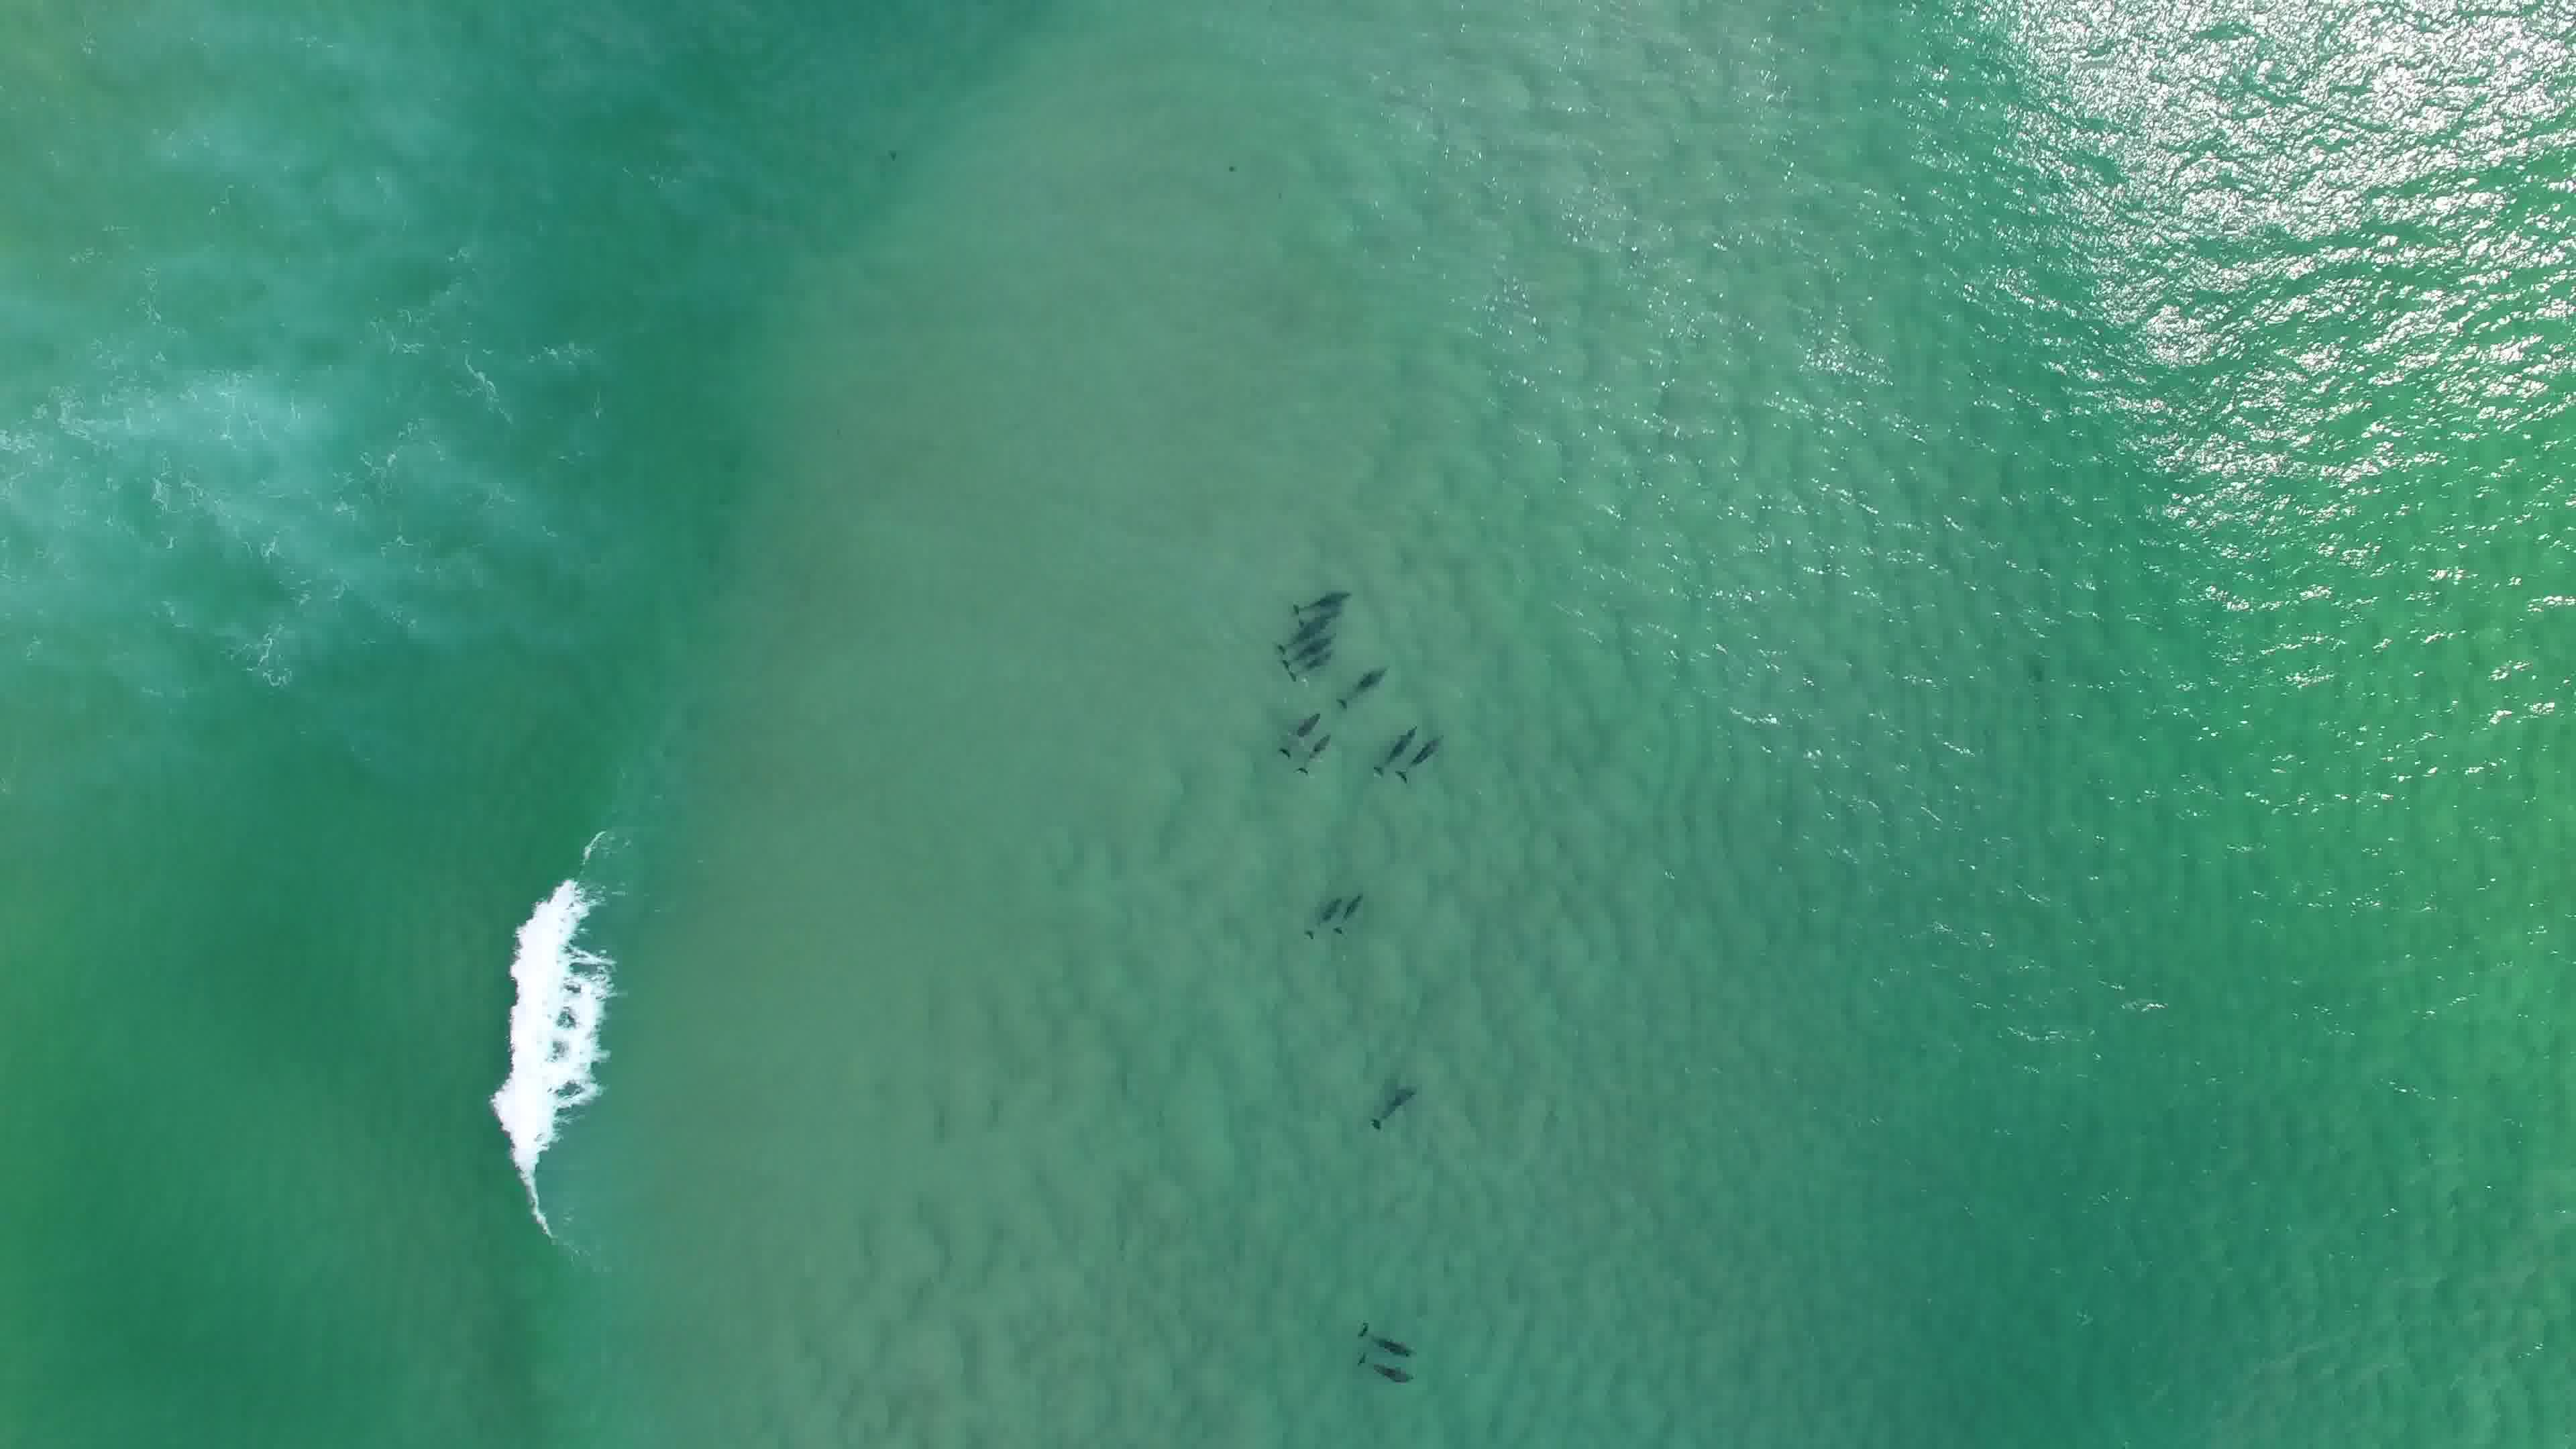dolphin: (1316, 637, 1391, 711), (1341, 1304, 1422, 1371), (1355, 1069, 1426, 1129), (1345, 1346, 1422, 1394), (1265, 697, 1343, 741), (1281, 729, 1346, 780), (1408, 715, 1451, 793), (1265, 605, 1339, 642), (1272, 648, 1341, 685), (1338, 869, 1373, 939), (1376, 713, 1415, 777), (1302, 883, 1341, 938), (1288, 587, 1357, 614), (1274, 630, 1343, 655)
